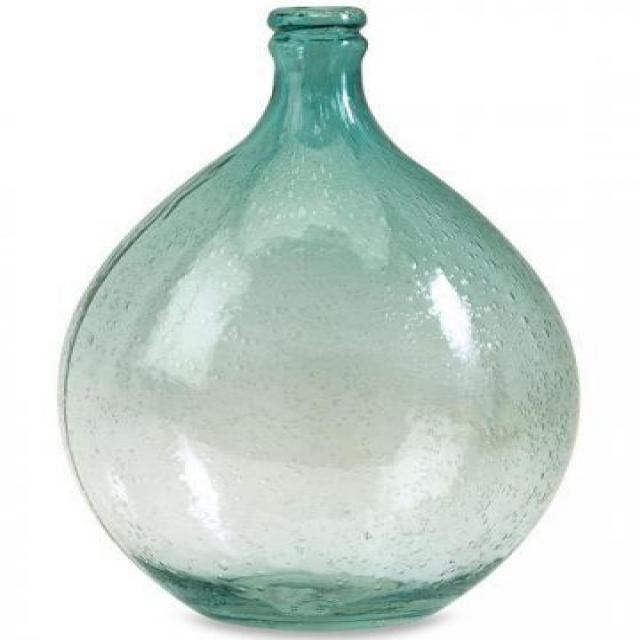glass: (54, 0, 591, 640)
